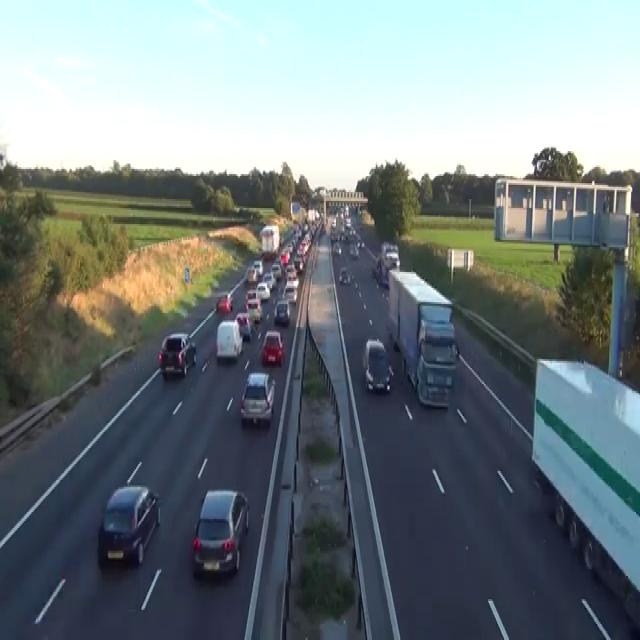Car: (97, 484, 160, 566), (191, 489, 249, 576), (416, 352, 453, 407), (239, 372, 275, 426), (158, 331, 196, 377), (364, 338, 393, 393), (419, 320, 459, 359), (418, 301, 453, 343), (215, 320, 243, 361), (261, 329, 285, 366), (234, 311, 252, 341), (273, 298, 290, 324), (245, 297, 262, 322), (215, 293, 233, 313), (384, 244, 400, 266), (245, 288, 259, 308), (256, 281, 270, 300), (283, 283, 297, 302), (262, 272, 276, 290), (371, 256, 381, 279), (338, 266, 350, 284), (252, 260, 263, 278), (246, 265, 257, 283), (380, 240, 391, 258), (293, 254, 304, 272), (285, 274, 299, 288), (271, 263, 282, 279), (285, 263, 296, 279), (280, 249, 290, 265), (349, 244, 359, 258), (333, 242, 342, 254), (357, 238, 365, 249), (345, 217, 351, 227), (331, 217, 336, 229), (279, 235, 283, 245)
Truck: (531, 356, 639, 628), (386, 269, 458, 407), (259, 224, 279, 260)
